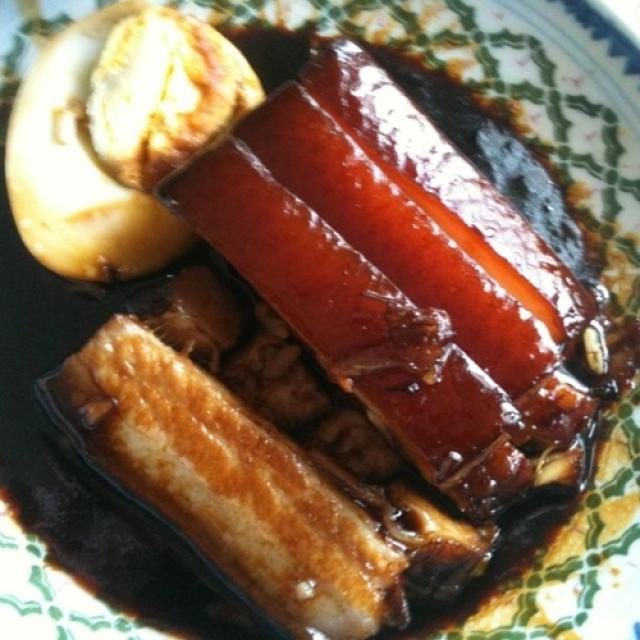牛肉菜式: (4, 8, 617, 631)
